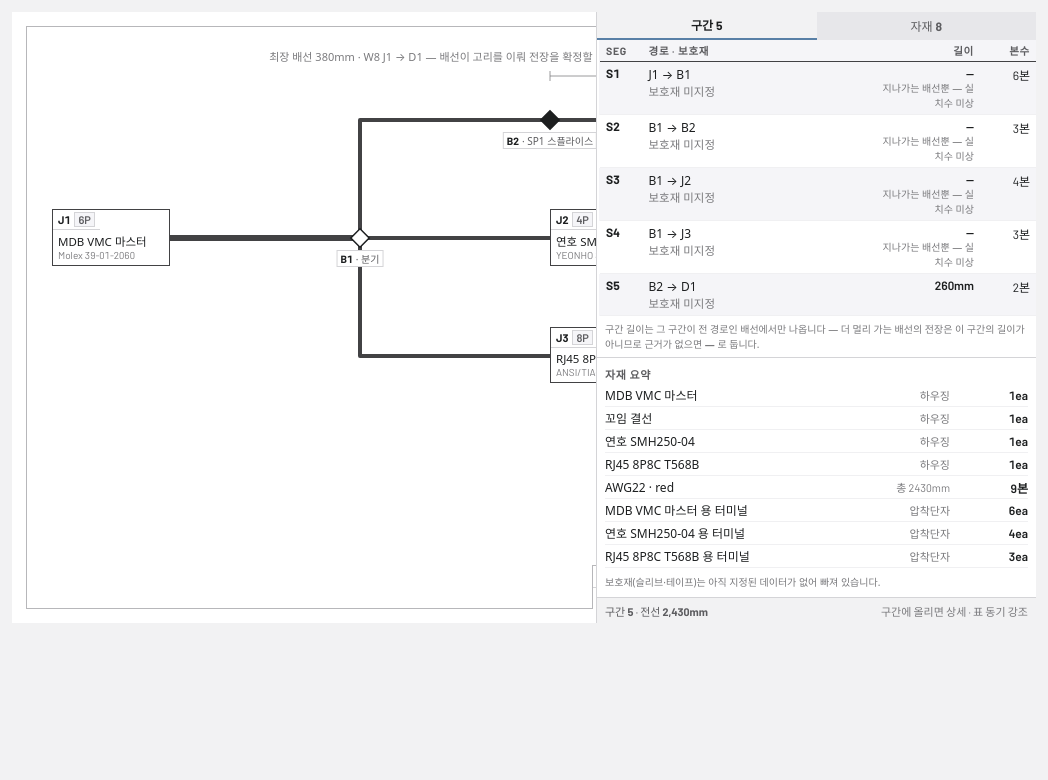
자재 요약 · 선택 › 자재 탭으로 바꾸면 실재하는 자재만 나온다(보호재 없음)
Click the tab "자재 8".
click(926, 26)  # box [816,12,1036,40]
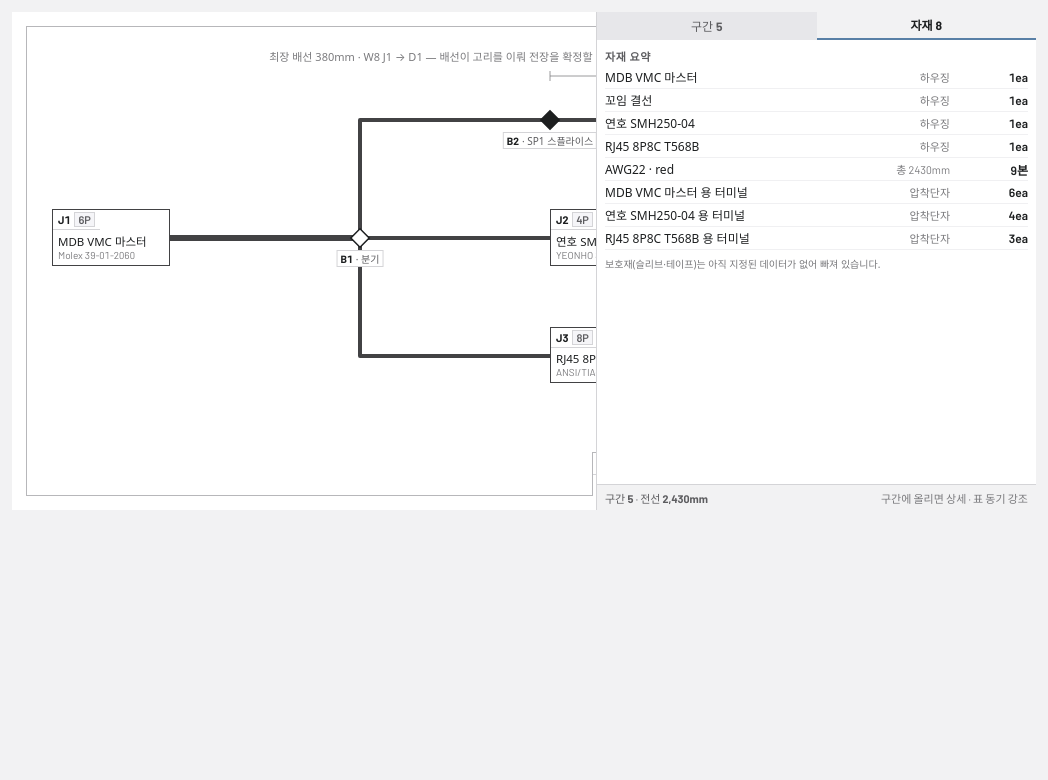
expect the element showing "MDB VMC 마스터 하우징 1ea" is shown: met, box [605,66,1028,89]
expect the table is gone: met
